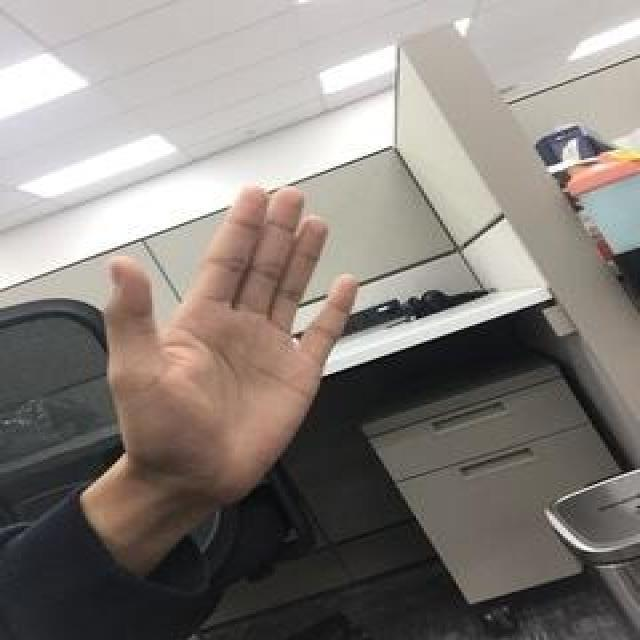hand: (99, 182, 361, 502)
